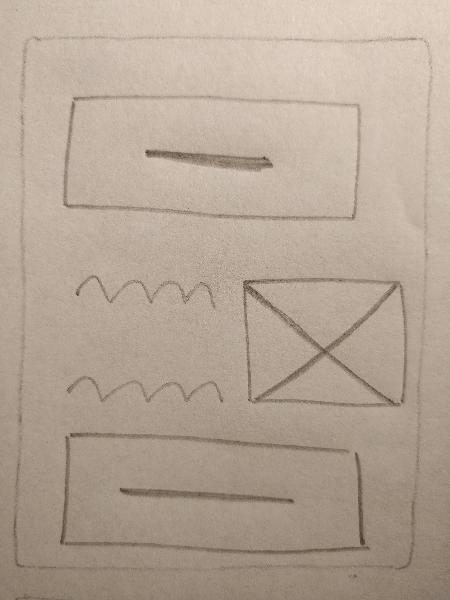button: (57, 418, 376, 561), (57, 83, 366, 227)
image: (234, 267, 412, 414)
text: (60, 260, 222, 322), (64, 366, 225, 417)
